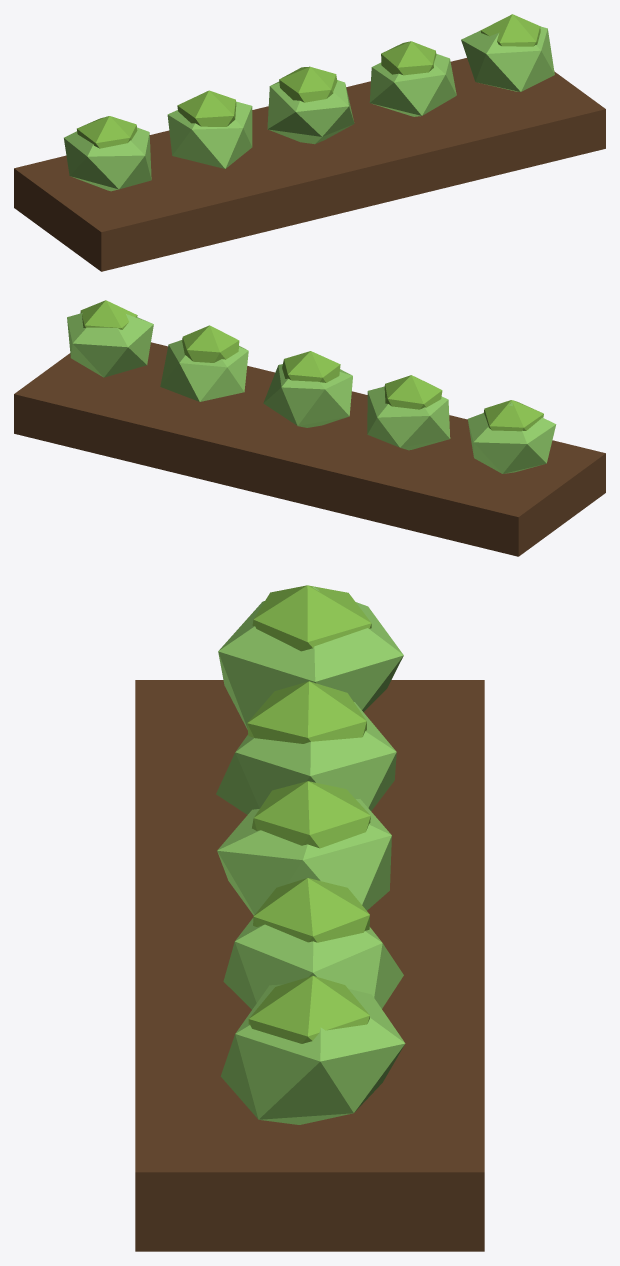
File: crop_row_cabbage.glb
The picture shows the model from 3 angles, top to bottom: view 1: azimuth 30°, elevation 25°; view 2: azimuth 150°, elevation 25°; view 3: azimuth 270°, elevation 25°; orthographic projection. The views are drawn at different scales.
Visible parts, largest first — view 1: crop_row_cabbage; view 2: crop_row_cabbage; view 3: crop_row_cabbage.
Boxes of the visible parts, x1,y1,x2,y2 form: crop_row_cabbage: (14,14,605,271); crop_row_cabbage: (14,300,605,556); crop_row_cabbage: (135,585,484,1251).
Size of the model in its own units: 2 by 0.4321 by 0.6.
